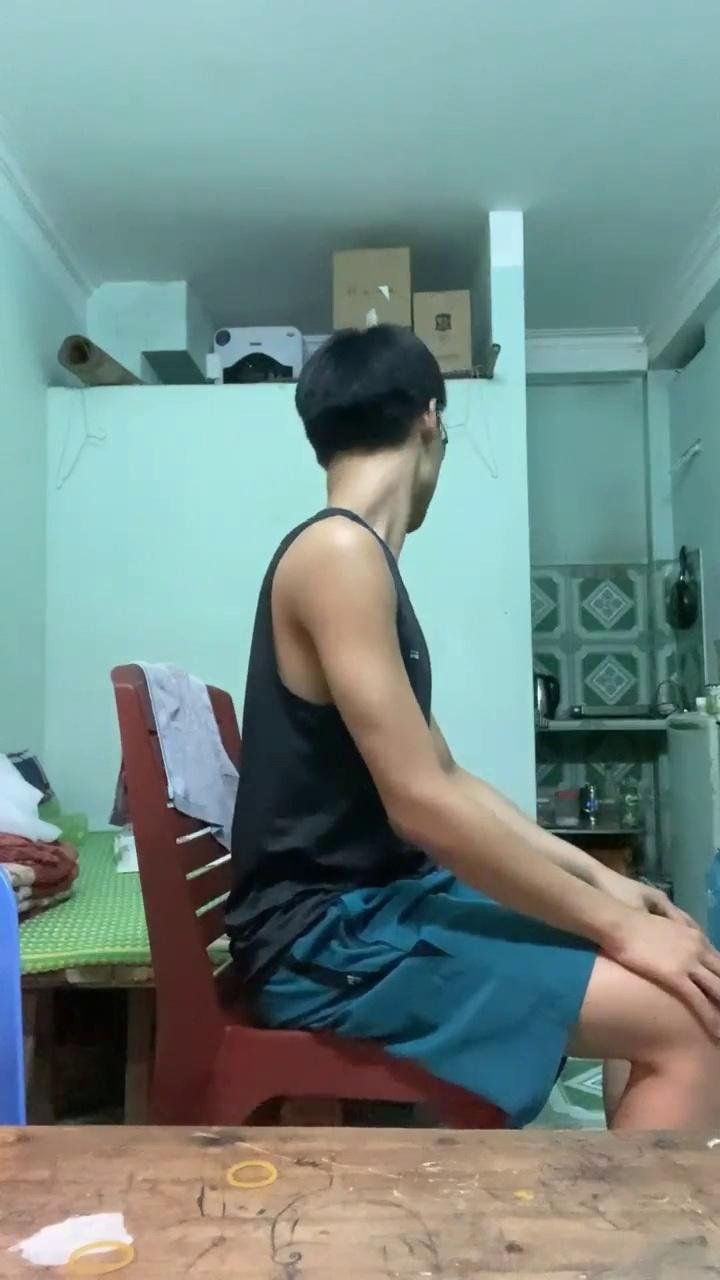GoodPosture: (227, 324, 719, 1132)
